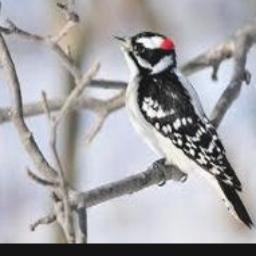Woodpecker: (110, 32, 255, 230)
